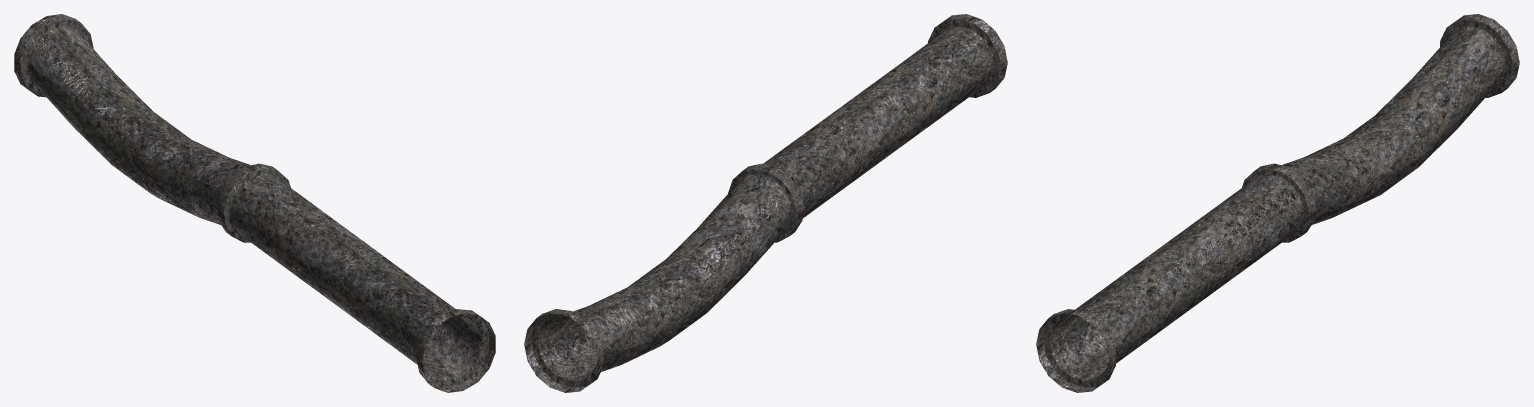
File: Pipe_03.FBX
3 renders of one model, left to right at view 1: azimuth 30°, elevation 25°; view 2: azimuth 150°, elevation 25°; view 3: azimuth 330°, elevation 25°, orthographic.
Parts seen in each view (by area): view 1: Pipe_03; view 2: Pipe_03; view 3: Pipe_03.
Part boxes in pixels (x1,y1,x2,y2): Pipe_03: (14,14,495,392); Pipe_03: (524,14,1007,392); Pipe_03: (1036,14,1519,392).
Bounding box in the file's own units: 7.87 × 9.52 × 74.84.
